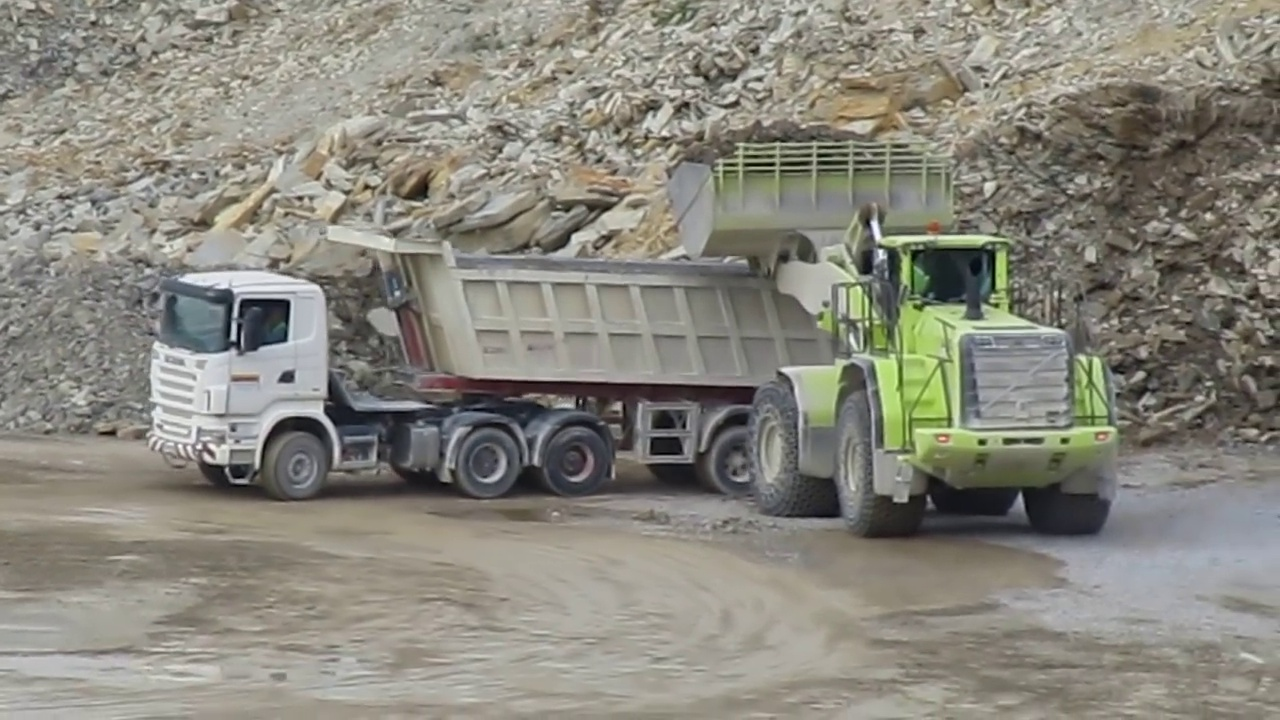truck: (147, 222, 865, 503)
wheel loader: (665, 133, 1126, 542)
